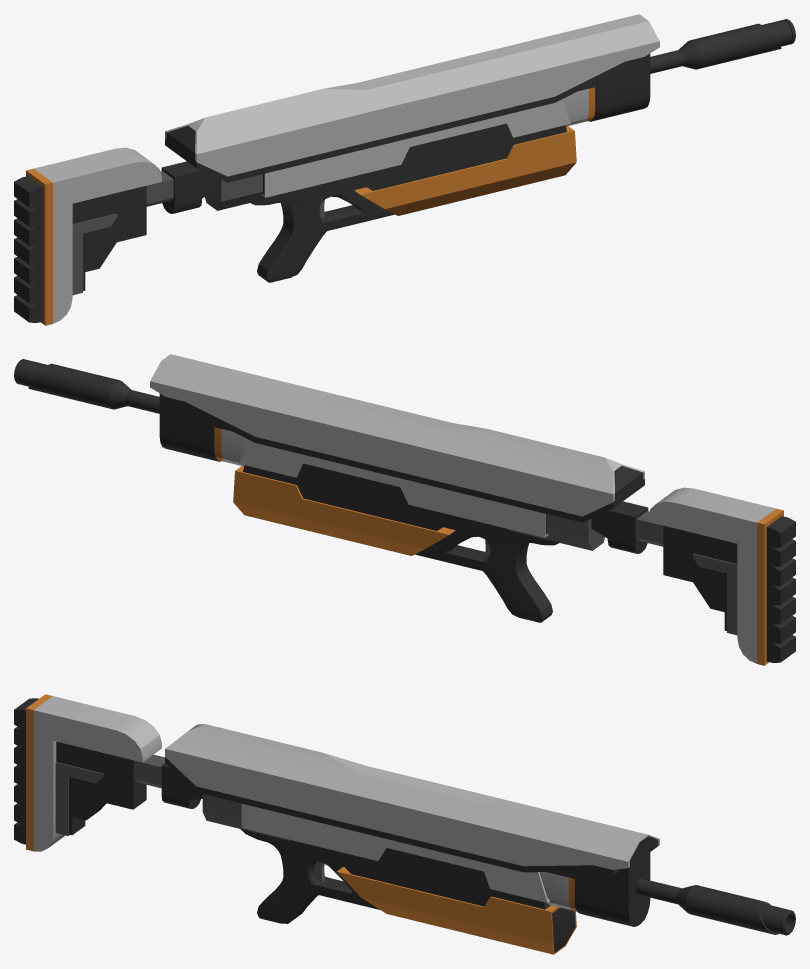
File: Sniper_2.gltf
The picture shows the model from 3 angles, top to bottom: view 1: azimuth 30°, elevation 25°; view 2: azimuth 150°, elevation 25°; view 3: azimuth 330°, elevation 25°; orthographic projection.
Visible parts, largest first — view 1: Sniper_2; view 2: Sniper_2; view 3: Sniper_2.
Boxes of the visible parts, left/top/right/bottom form: Sniper_2: left=14, top=14, right=795, bottom=325; Sniper_2: left=14, top=354, right=795, bottom=665; Sniper_2: left=14, top=694, right=795, bottom=954.
Size of the model in its own units: 2.51 by 0.5519 by 0.1784.
